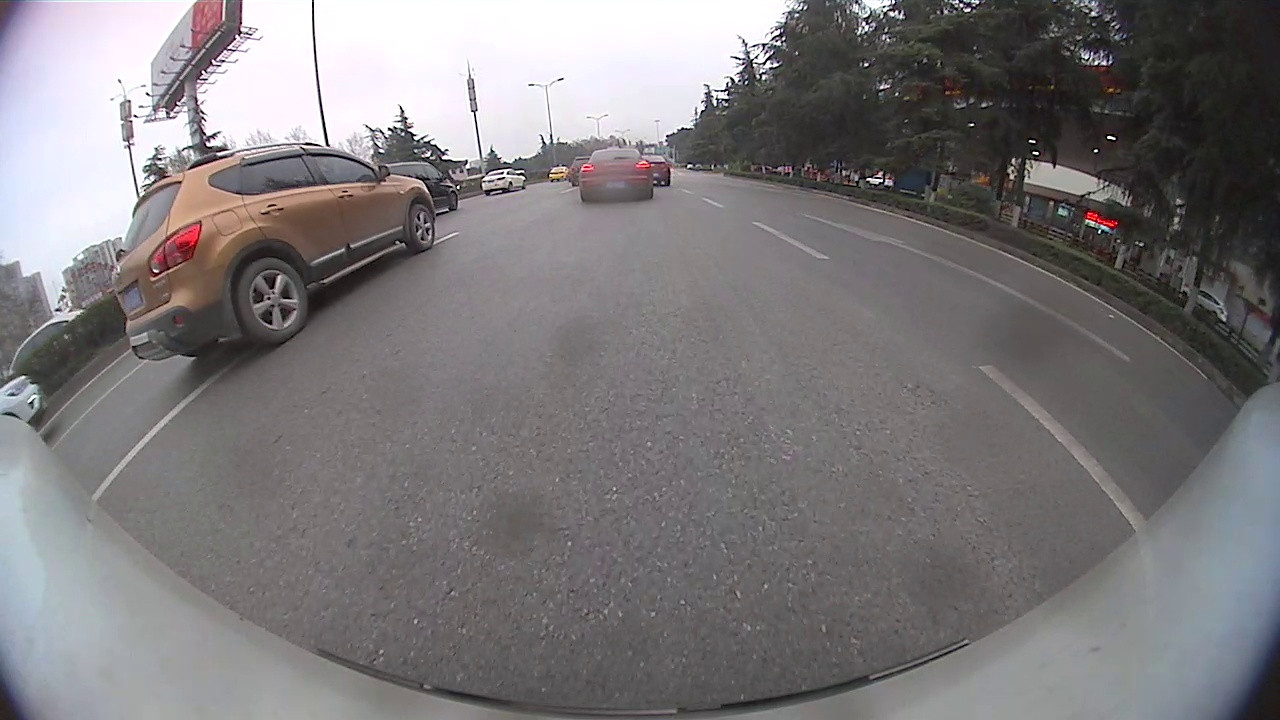car: (113, 142, 435, 366), (379, 161, 456, 214), (581, 148, 654, 200), (0, 375, 47, 425), (476, 165, 530, 194)
front: (404, 202, 435, 255), (447, 191, 460, 212)
rear: (234, 255, 310, 347)
